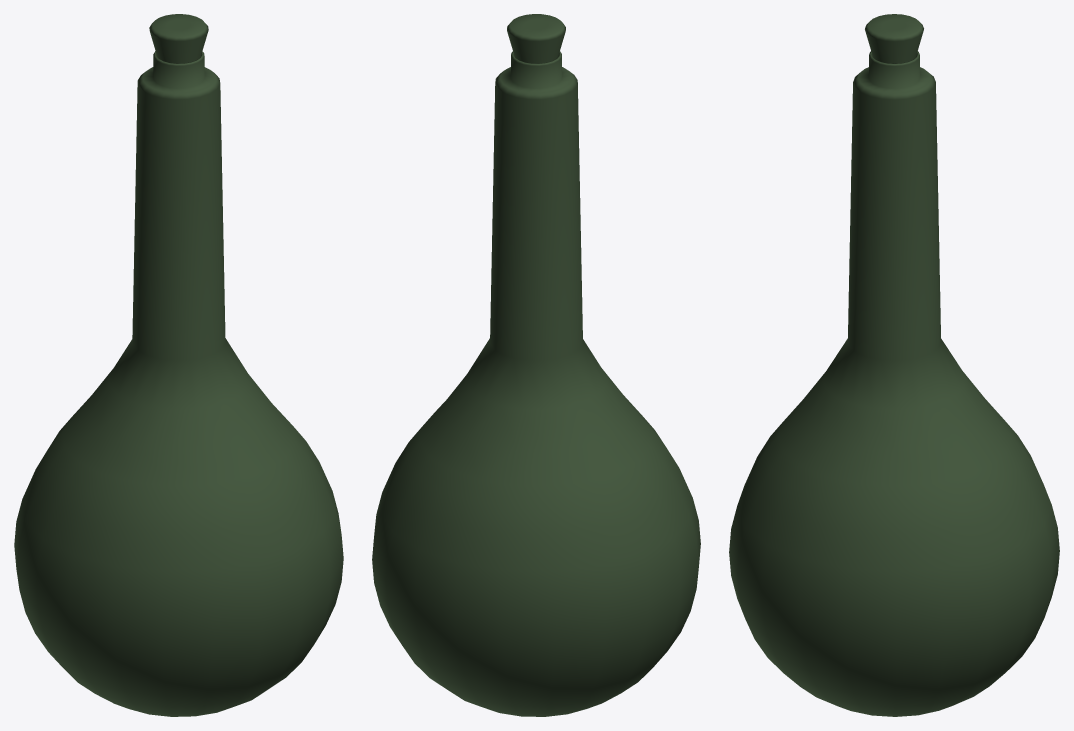
File: ThroneroomBotella1.fbx
3 views of the same model, side by side, from view 1: azimuth 30°, elevation 25°; view 2: azimuth 150°, elevation 25°; view 3: azimuth 270°, elevation 25° (orthographic).
Visible parts, largest first — view 1: Botella1; view 2: Botella1; view 3: Botella1.
Part boxes in pixels (left/top/right/bottom): Botella1: left=14, top=14, right=343, bottom=716; Botella1: left=372, top=14, right=700, bottom=716; Botella1: left=729, top=14, right=1059, bottom=716.
Size of the model in its own units: 14.26 by 32.17 by 14.26.
